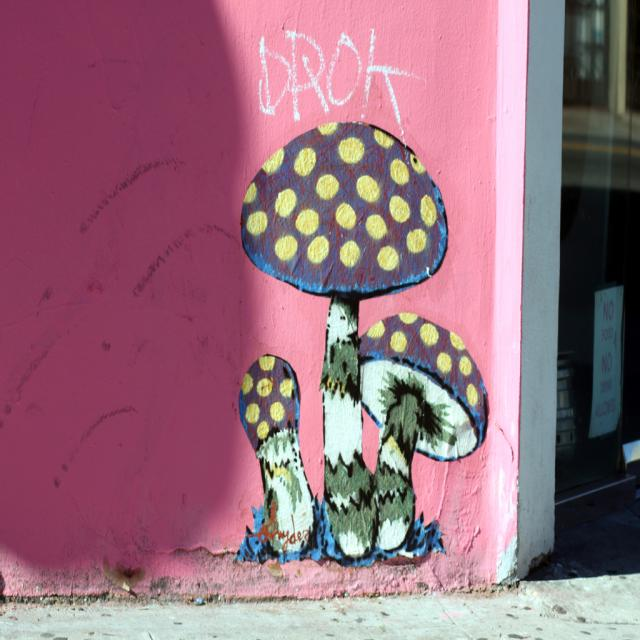Mushroom: (242, 120, 449, 553), (358, 312, 489, 552), (237, 354, 315, 557)
